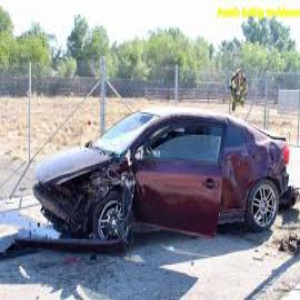door: (201, 163, 251, 235)
